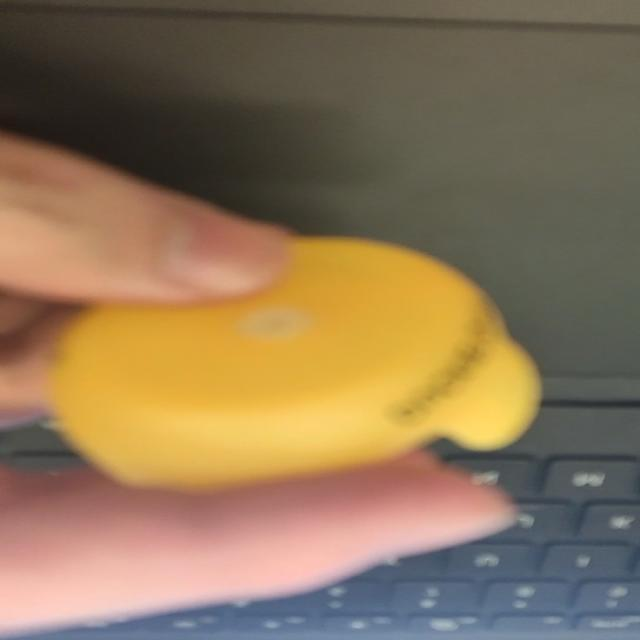rubber-duck: (51, 235, 539, 486)
